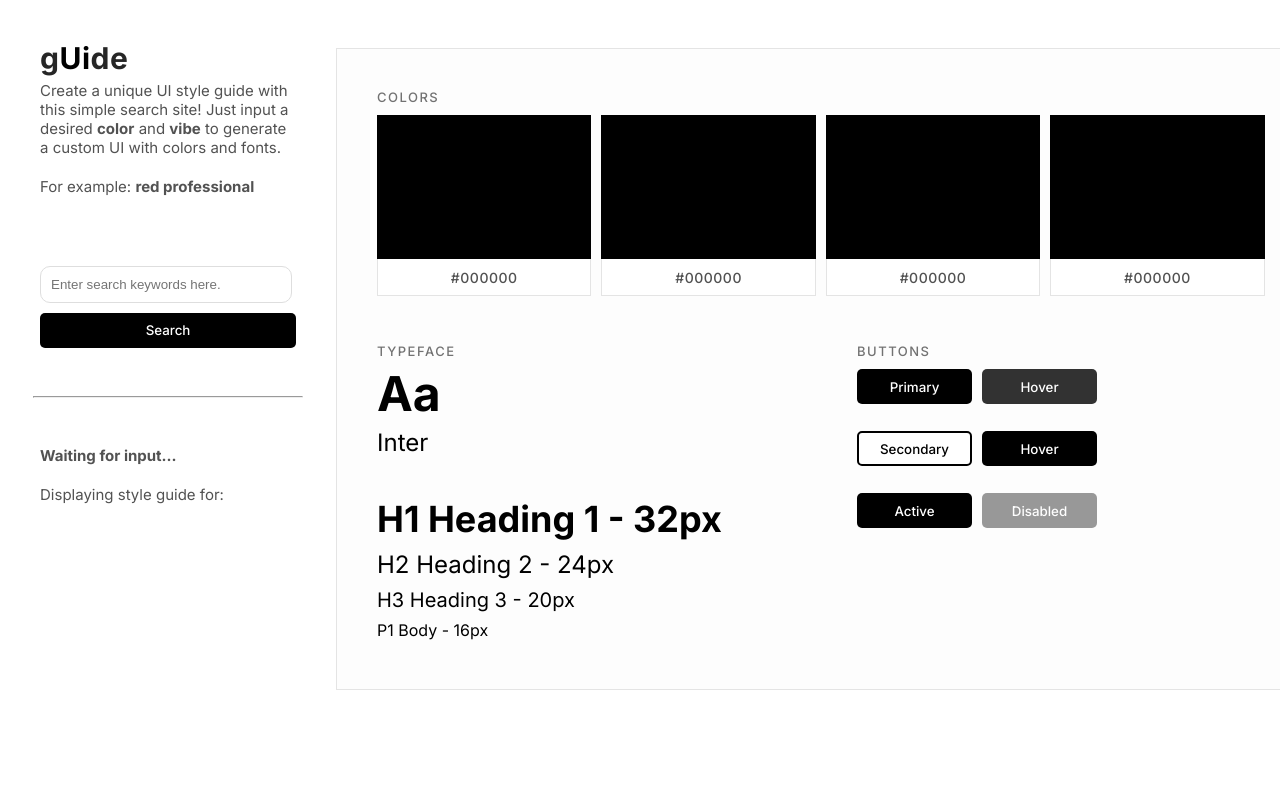
Scenario: text while searching
The width and height of the screenshot is (1280, 800).
Type "green smooth" into the field named "Search box" at (166, 284), box [40,266,292,303]
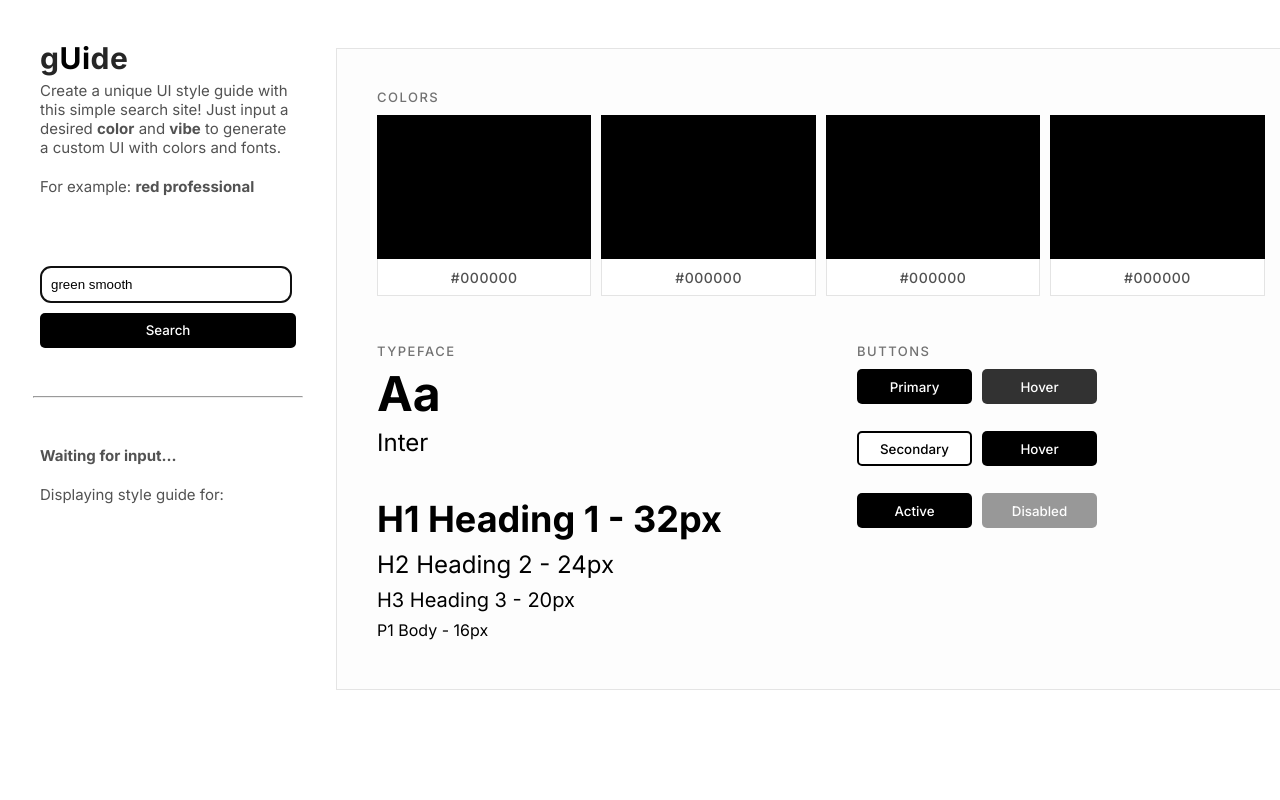
Click the button with aria-label "Search button" at (168, 330), box [40,313,296,348]
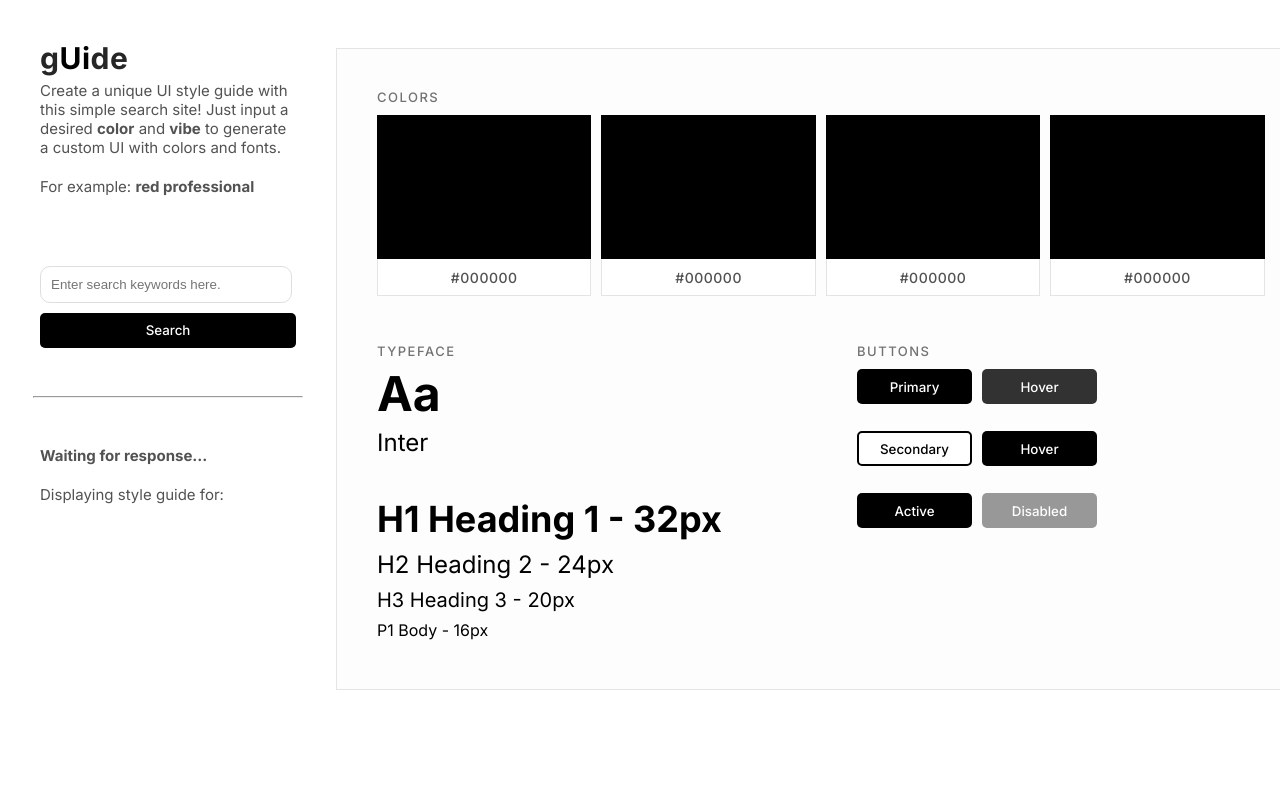
Now the text "Waiting for response..." is shown, box [40,446,207,465]
